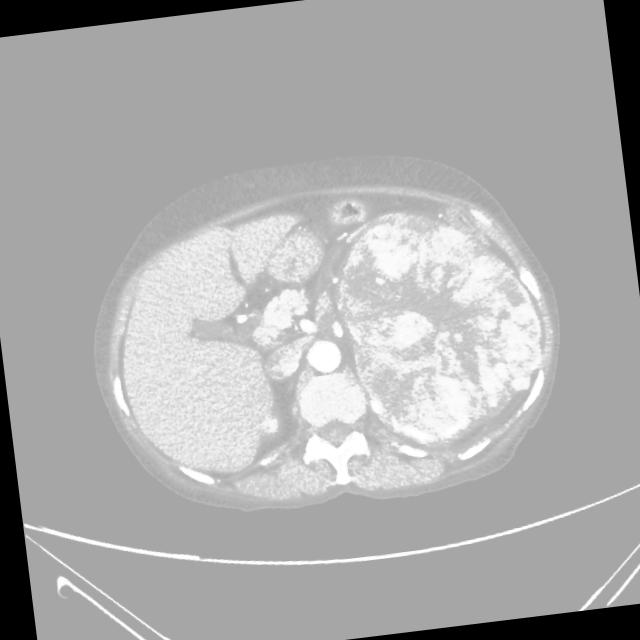TUMOR: (306, 156, 510, 452)
